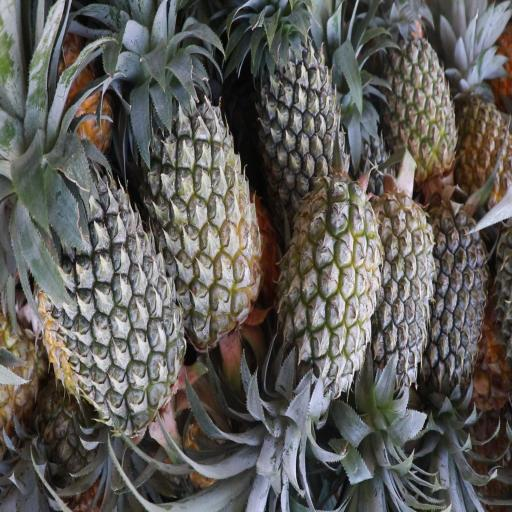------------------------------: (142, 82, 260, 329), (284, 174, 377, 386), (384, 28, 456, 192), (454, 61, 512, 204)
